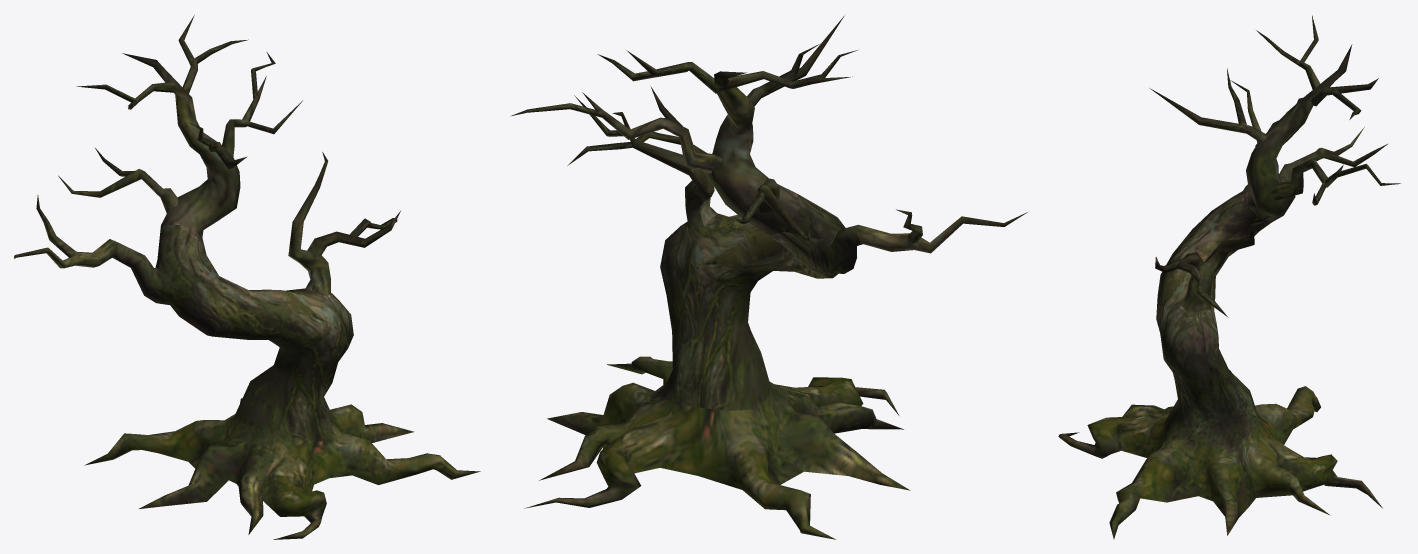
The model's file is S_Tree_Green145.FBX.
The picture shows the model from 3 angles, left to right: view 1: azimuth 30°, elevation 25°; view 2: azimuth 150°, elevation 25°; view 3: azimuth 270°, elevation 25°; orthographic projection. The views are drawn at different scales.
Parts seen in each view (by area): view 1: S_Tree_Green145; view 2: S_Tree_Green145; view 3: S_Tree_Green145.
Boxes of the visible parts, x1,y1,x2,y2 form: S_Tree_Green145: (14,15,480,539); S_Tree_Green145: (510,15,1027,539); S_Tree_Green145: (1058,15,1400,539).
Bounding box in the file's own units: 581 × 433 × 541.
